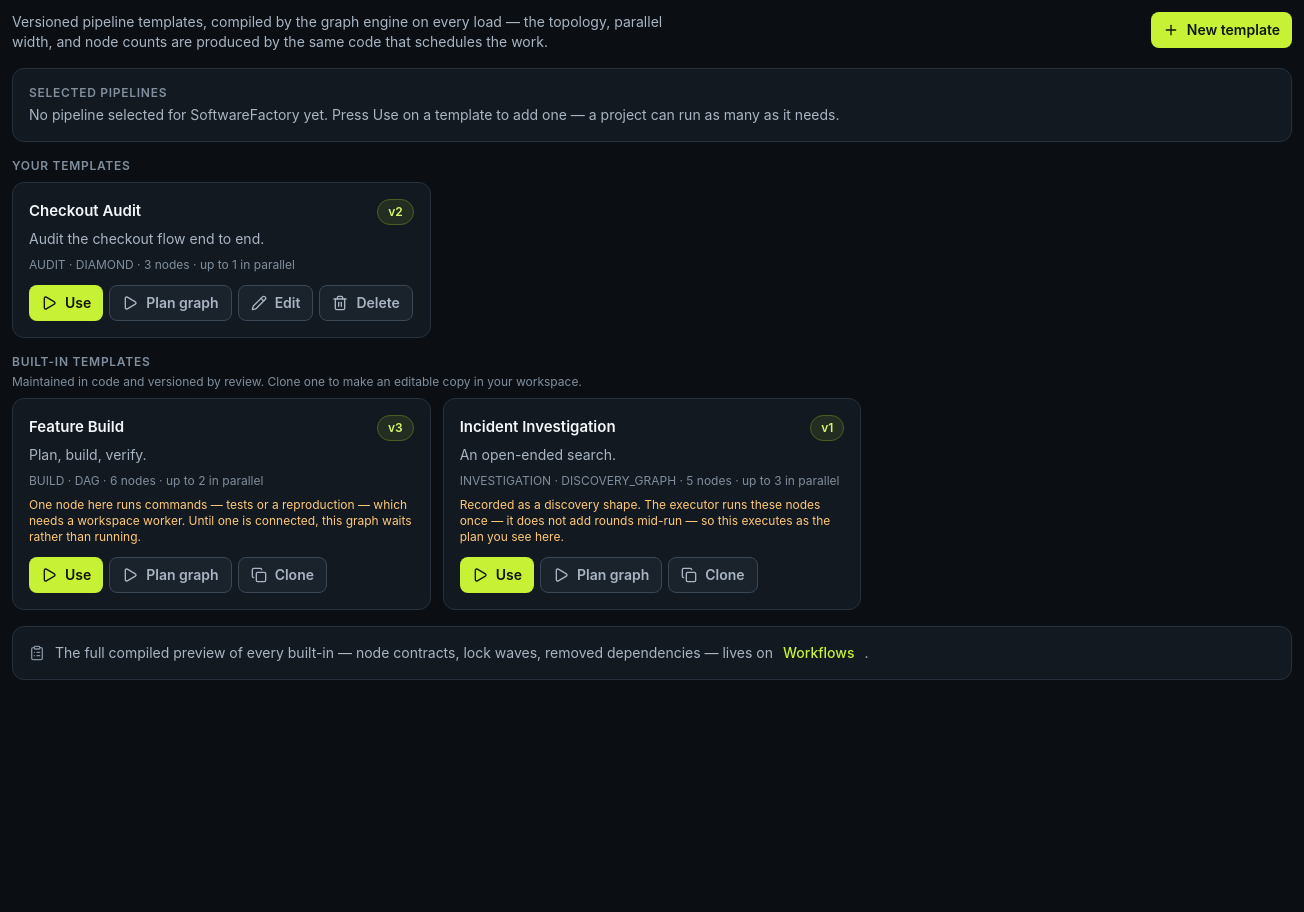
Test: PipelineTemplatesManager › keeps many selections at once, which is what a project's pipeline set is
Click the button with aria-label "Use Checkout Audit": [66, 303] box [29, 285, 103, 321]
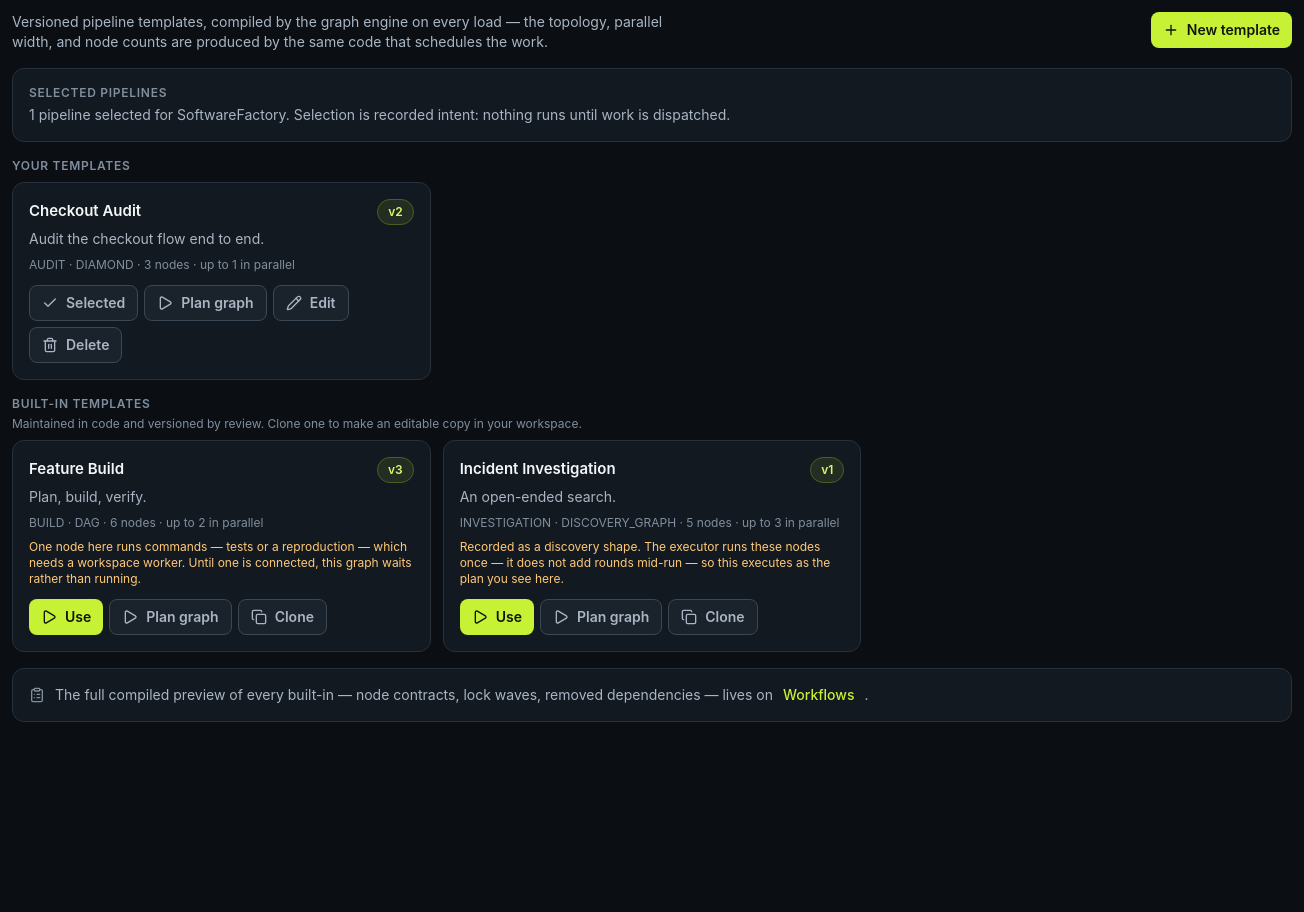
Expected: the button with aria-label "Stop using Checkout Audit" is shown, [29, 285, 138, 321]
Click the button with aria-label "Use Feature Build": [66, 617] box [29, 599, 103, 635]
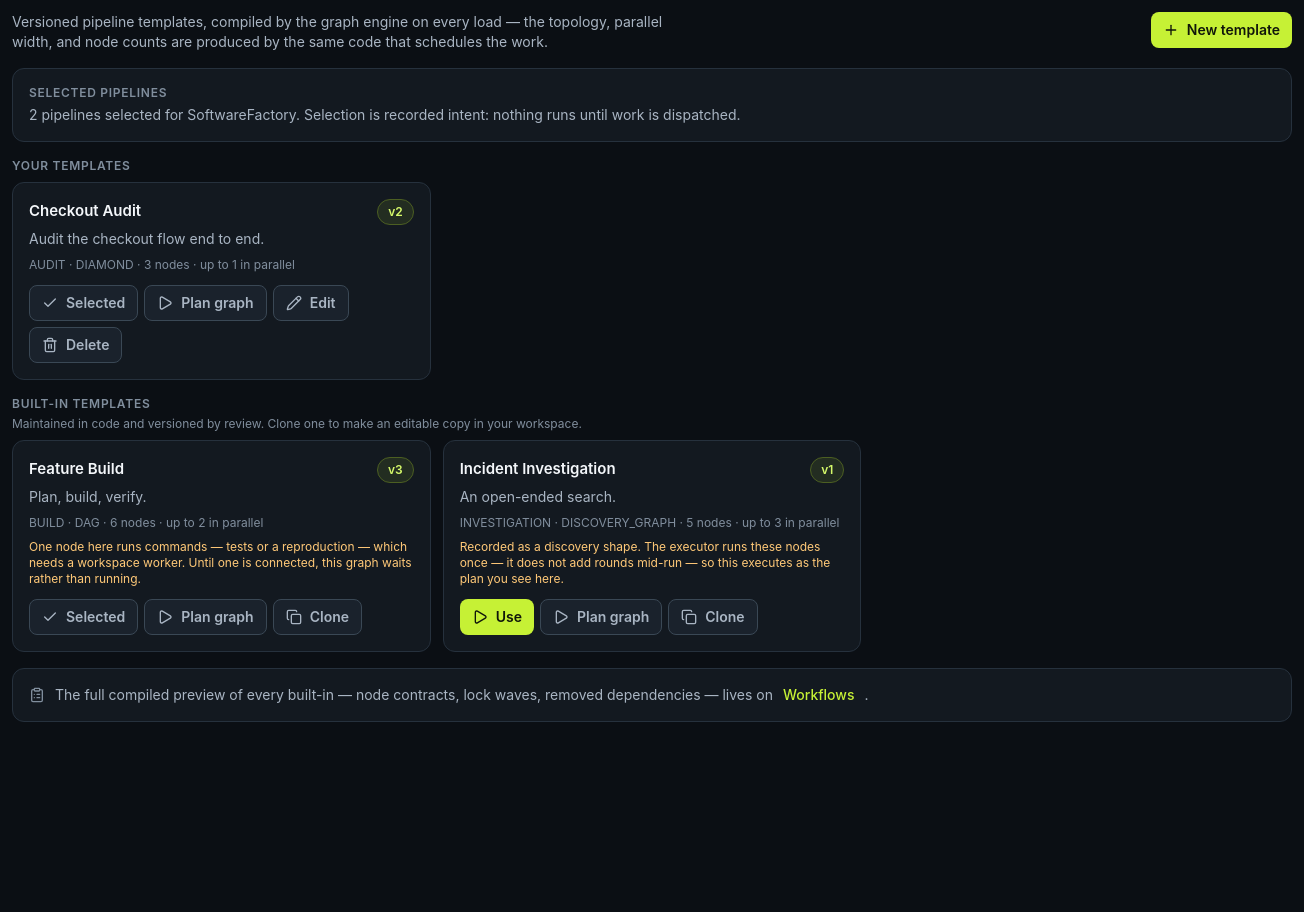
Expected: the button with aria-label "Stop using Feature Build" is shown, [29, 599, 138, 635]
Expected: the text "2 pipelines selected for SoftwareFactory" is shown, [29, 106, 740, 123]
